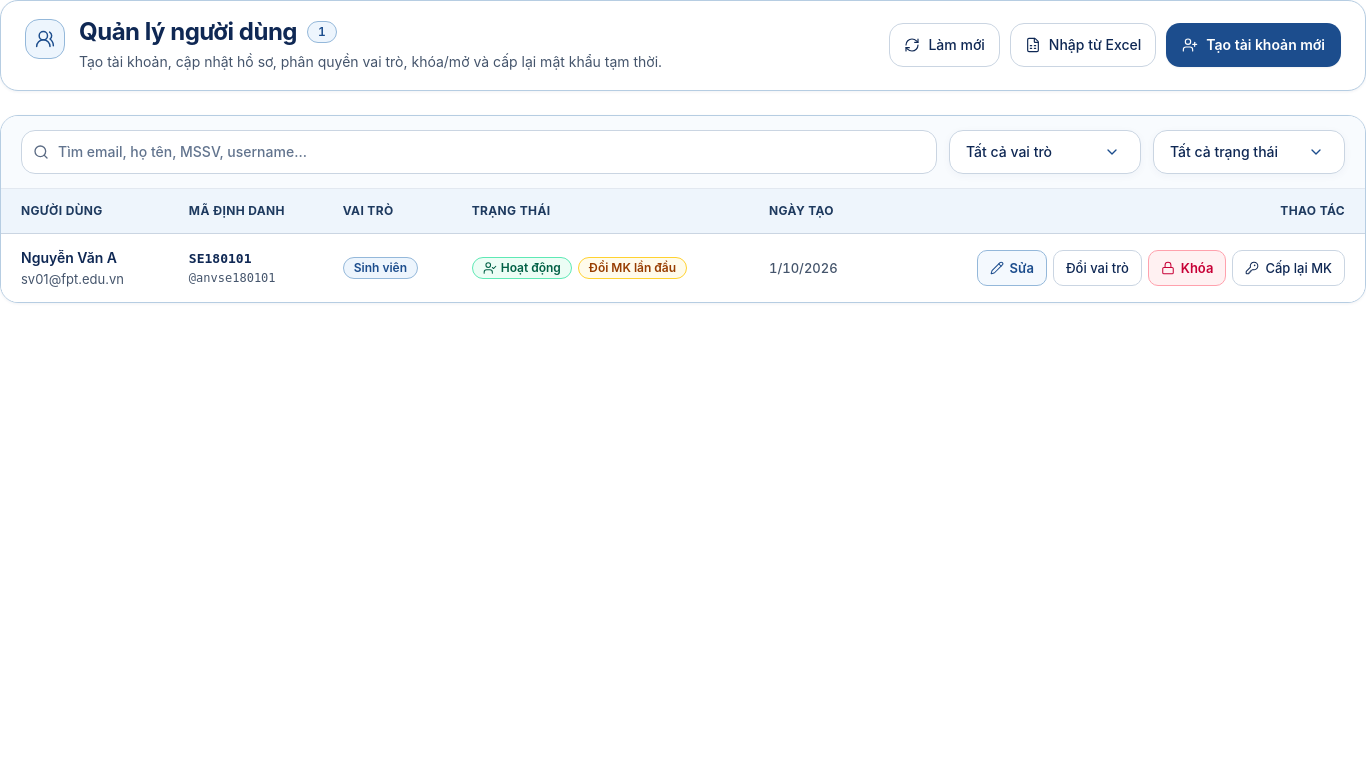
Scenario: AdminUsersPage › creates user without dead department field and maps RFC 7807 field errors
Click the button "Tạo tài khoản mới" at (1254, 45), box [1166,23,1341,67]
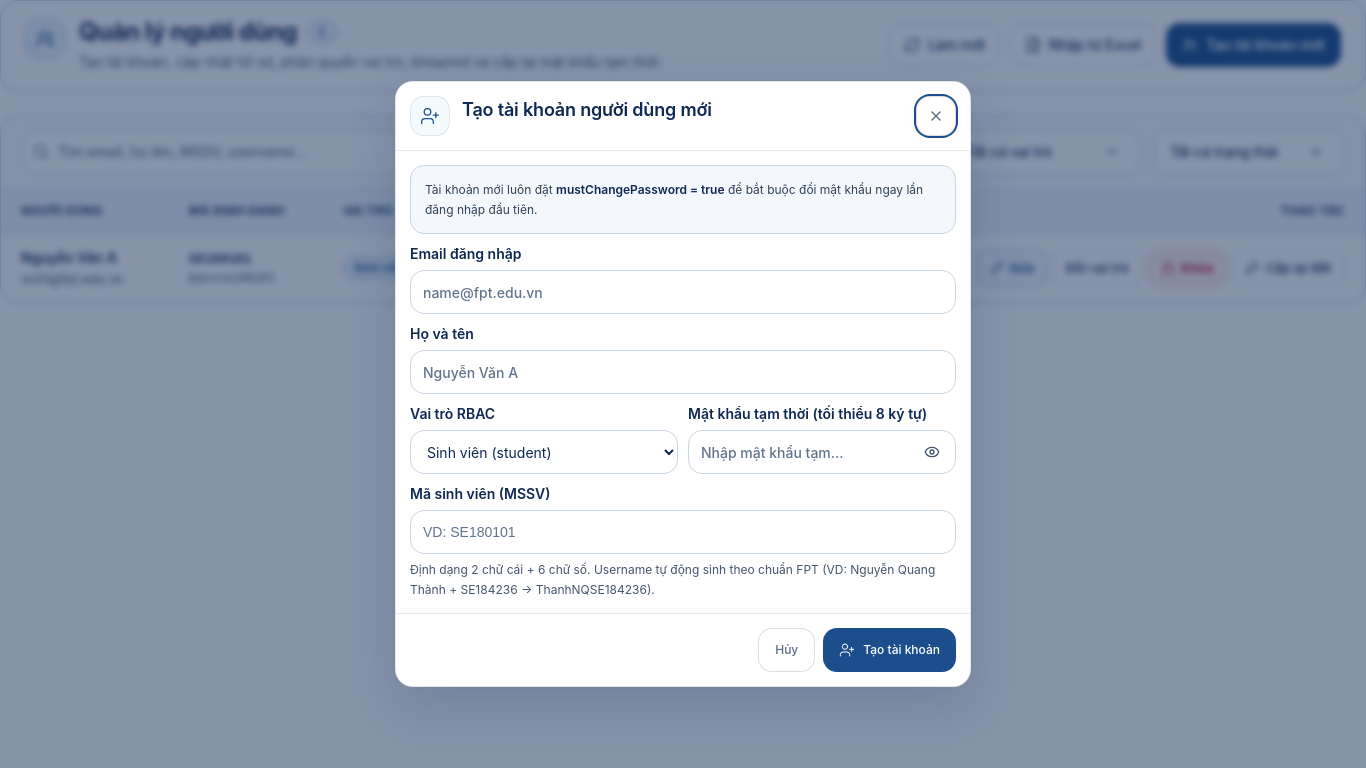
Expected: the text "mustChangePassword = true" is shown, [556,182,725,197]
Type "new@fpt.edu.vn" into the field labelled "Email đăng nhập" at (683, 292), box [410,270,956,314]
Type "Sinh Viên Mới" into the field labelled "Họ và tên" at (683, 372), box [410,350,956,394]
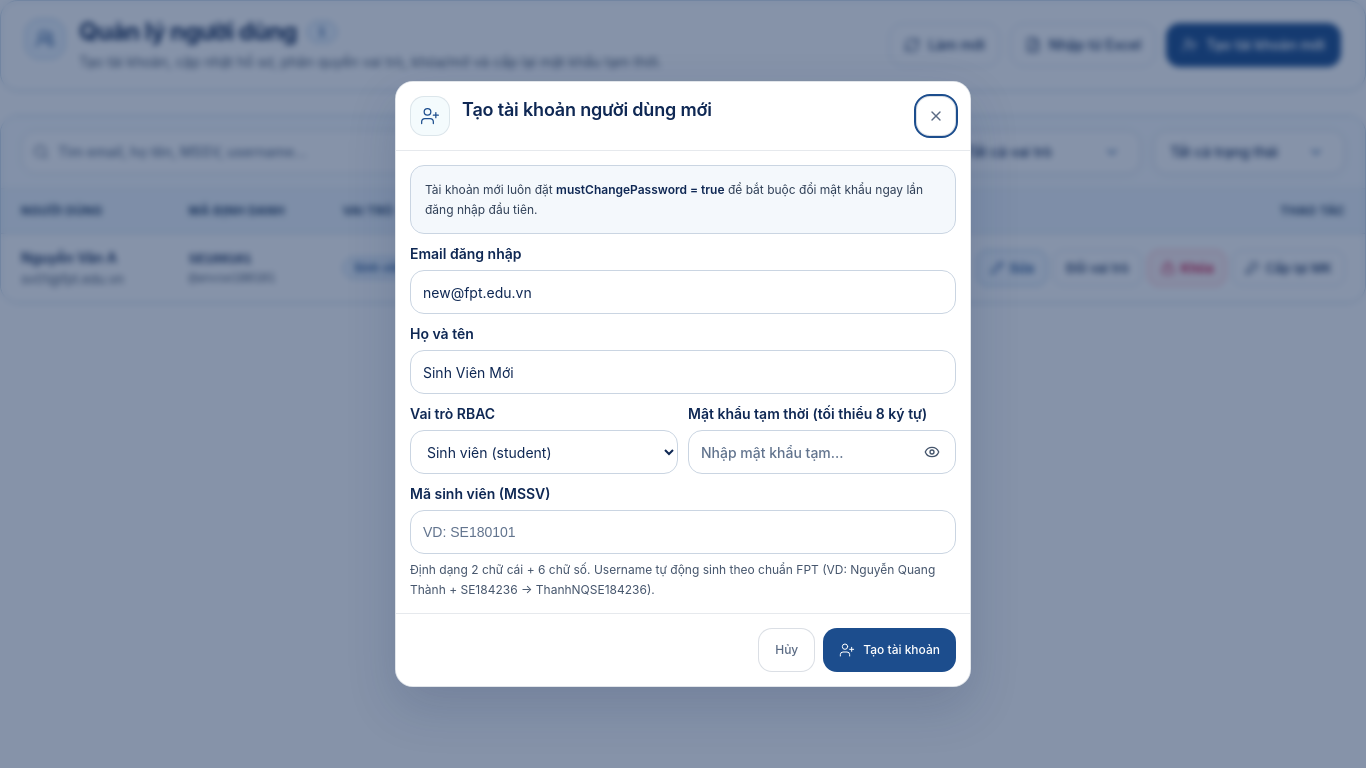
Type "Temp#2026" into the password field labelled "Mật khẩu tạm thời (tối thiểu 8 ký tự)" at (822, 452), box [688,430,956,474]
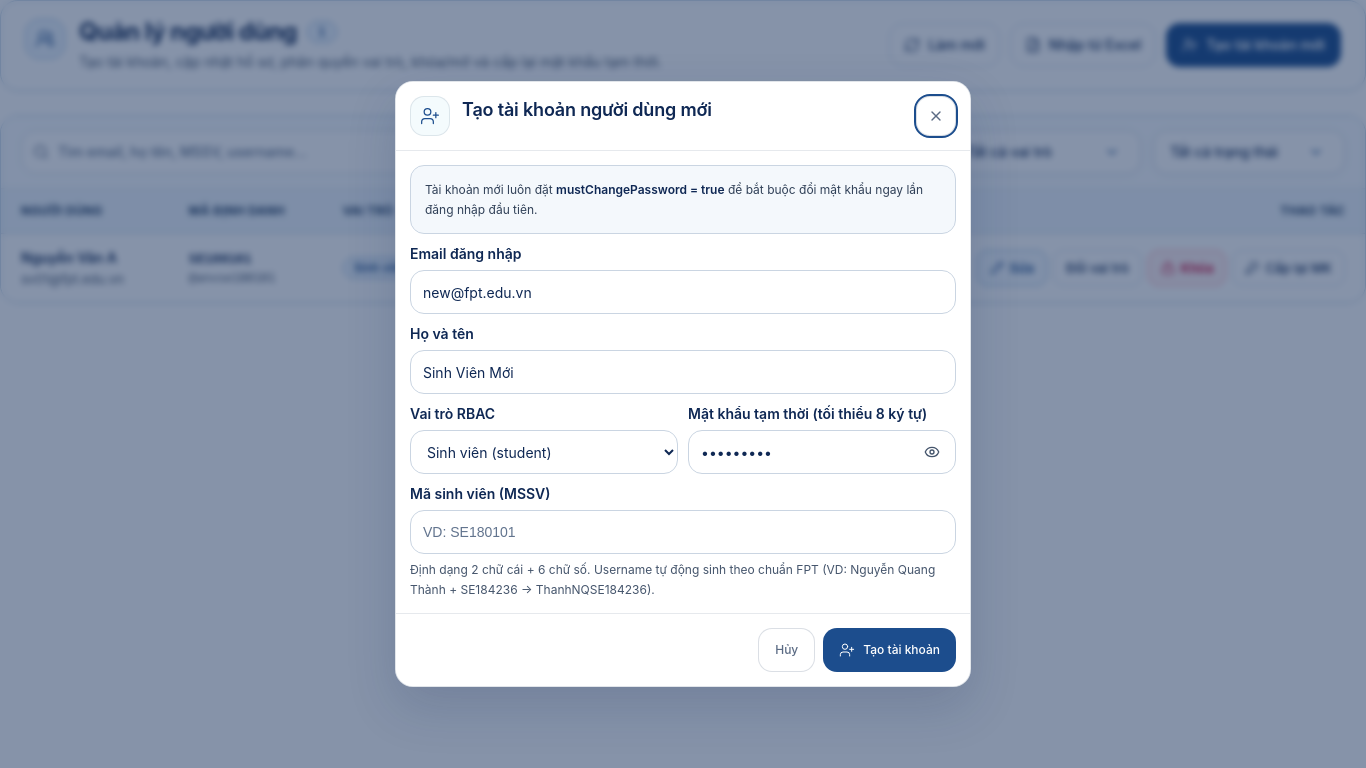
Type "se180202" into the field labelled "Mã sinh viên (MSSV)" at (683, 532), box [410,510,956,554]
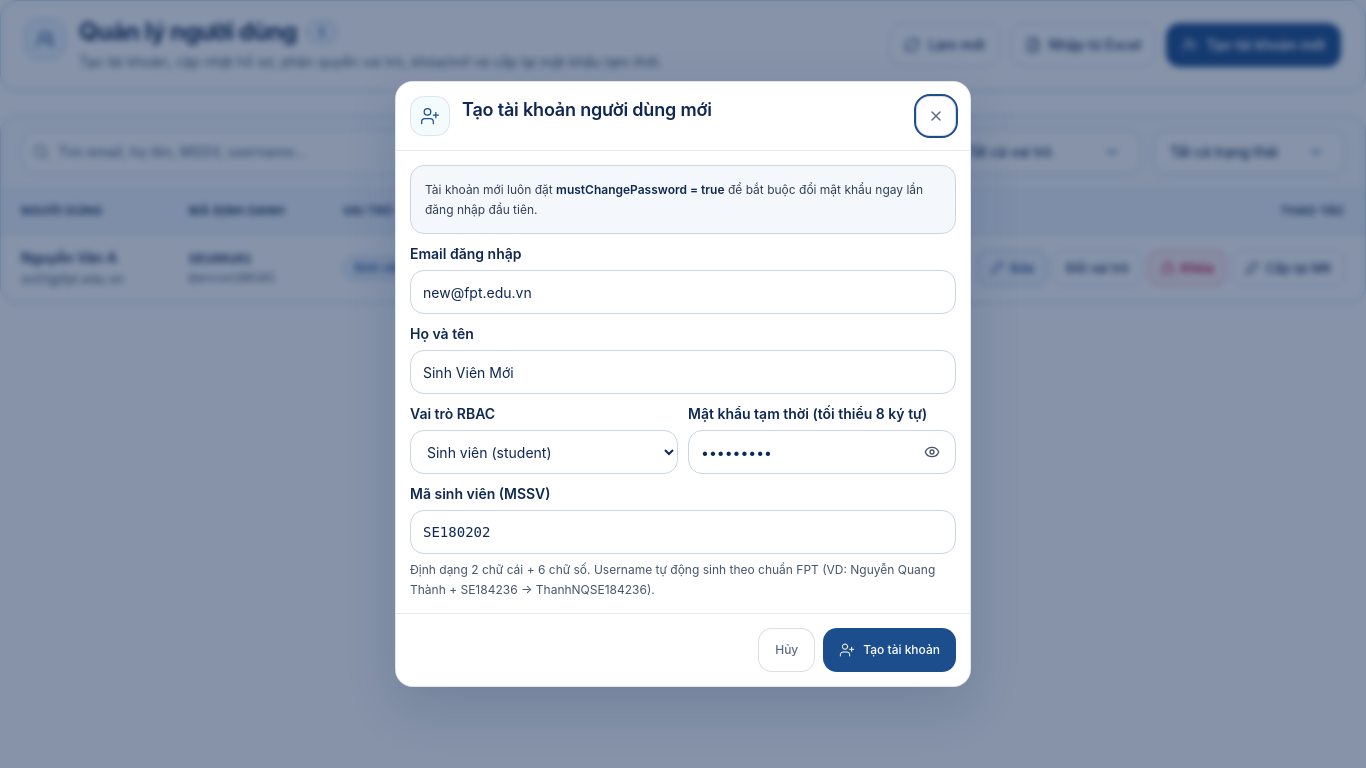
Click the button "Tạo tài khoản" at (890, 650), box [823,628,956,672]
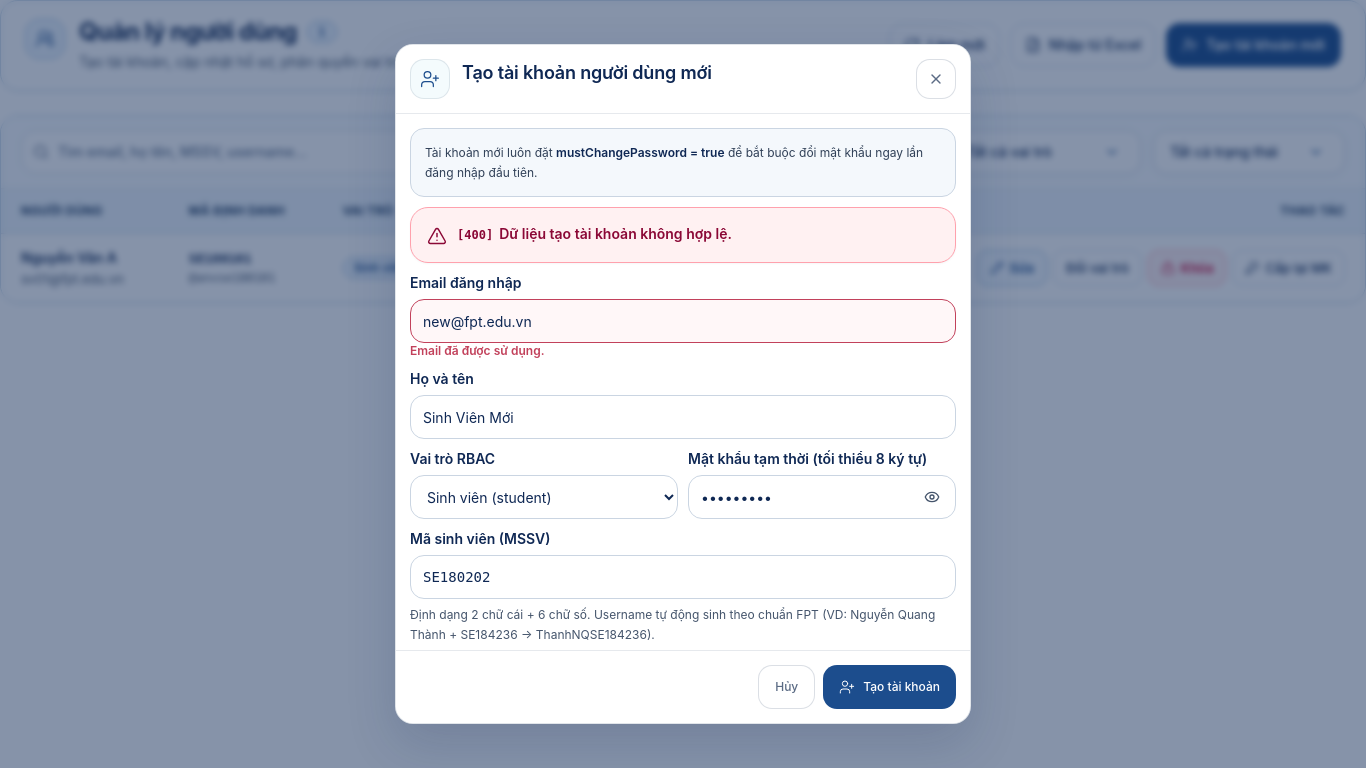
Expected: the text "Email đã được sử dụng." is shown, [410,343,544,358]
Press Escape
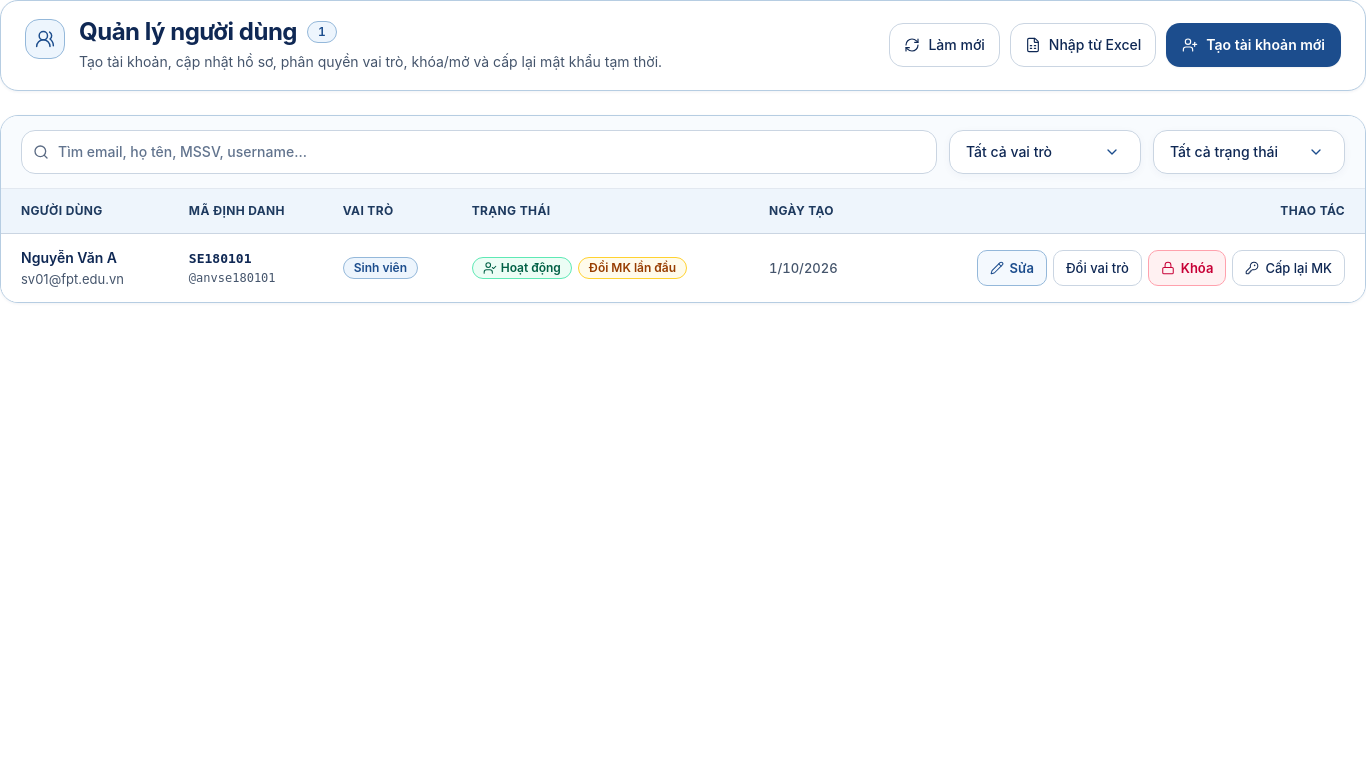
Expected: the dialog is gone
